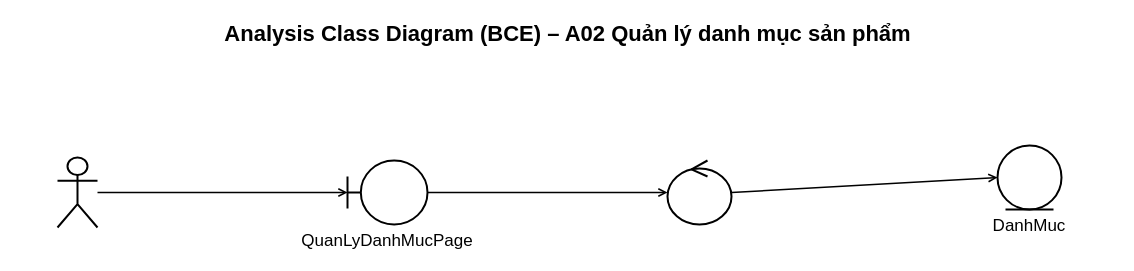
The diagram is 1134 pixels wide and 271 high, and some of its shapes have lost their labels. Each missing label, with the box of its shape:
QuanLyDanhMucController: (666, 159, 732, 225)
Quản trị viên: (56, 156, 98, 228)
